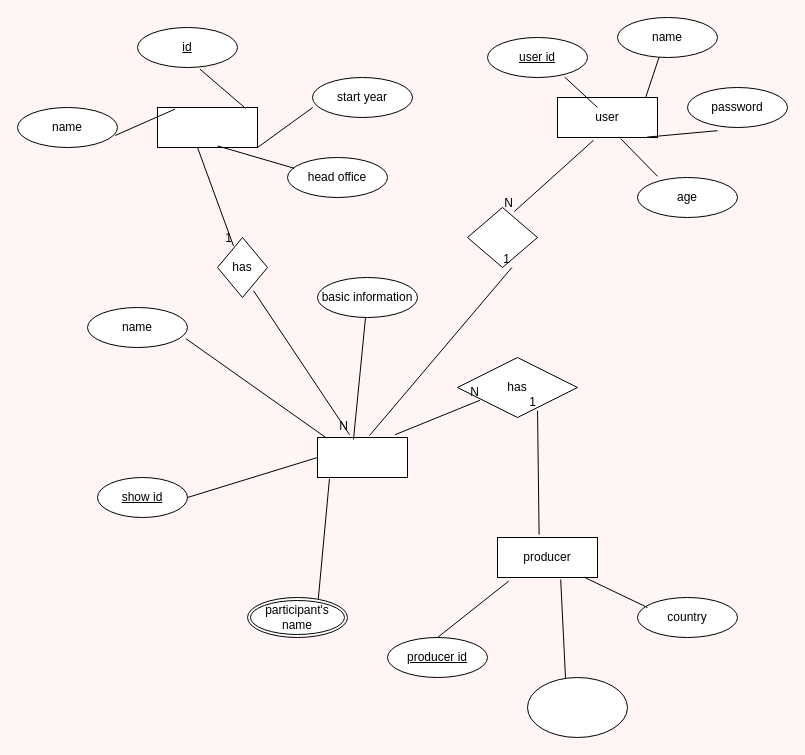
Some shapes in this 805 by 755 pixel diagram are drawn without their labels. Here are the shapes that lost their labels. From the top down, the centre of each, then its label:
point (207, 127): TV channel
point (502, 237): rate
point (362, 457): Reality show
point (577, 707): company name
